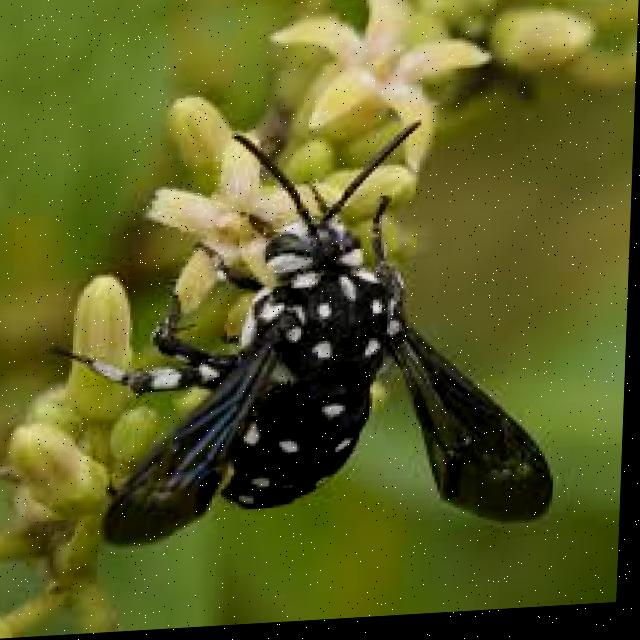Thyreus: (46, 97, 592, 544)
